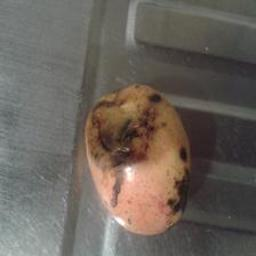Mango Rotten: (69, 77, 192, 242)
